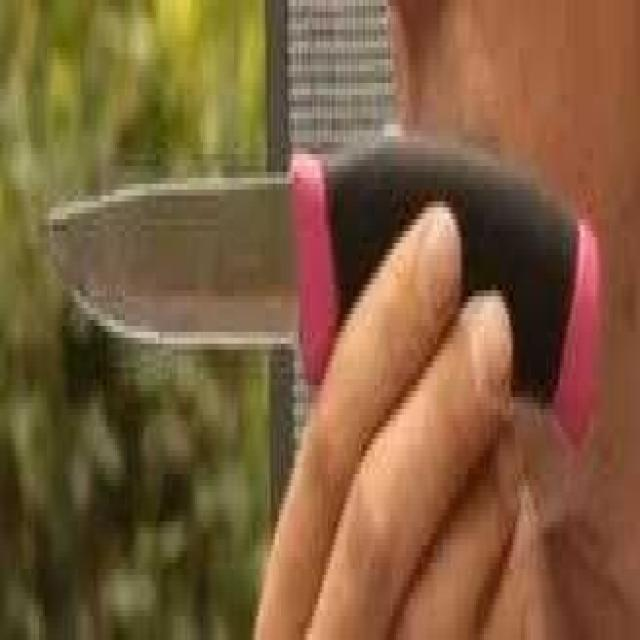Knife: (44, 130, 604, 472)
